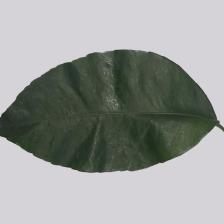healthy: (7, 54, 212, 171)
